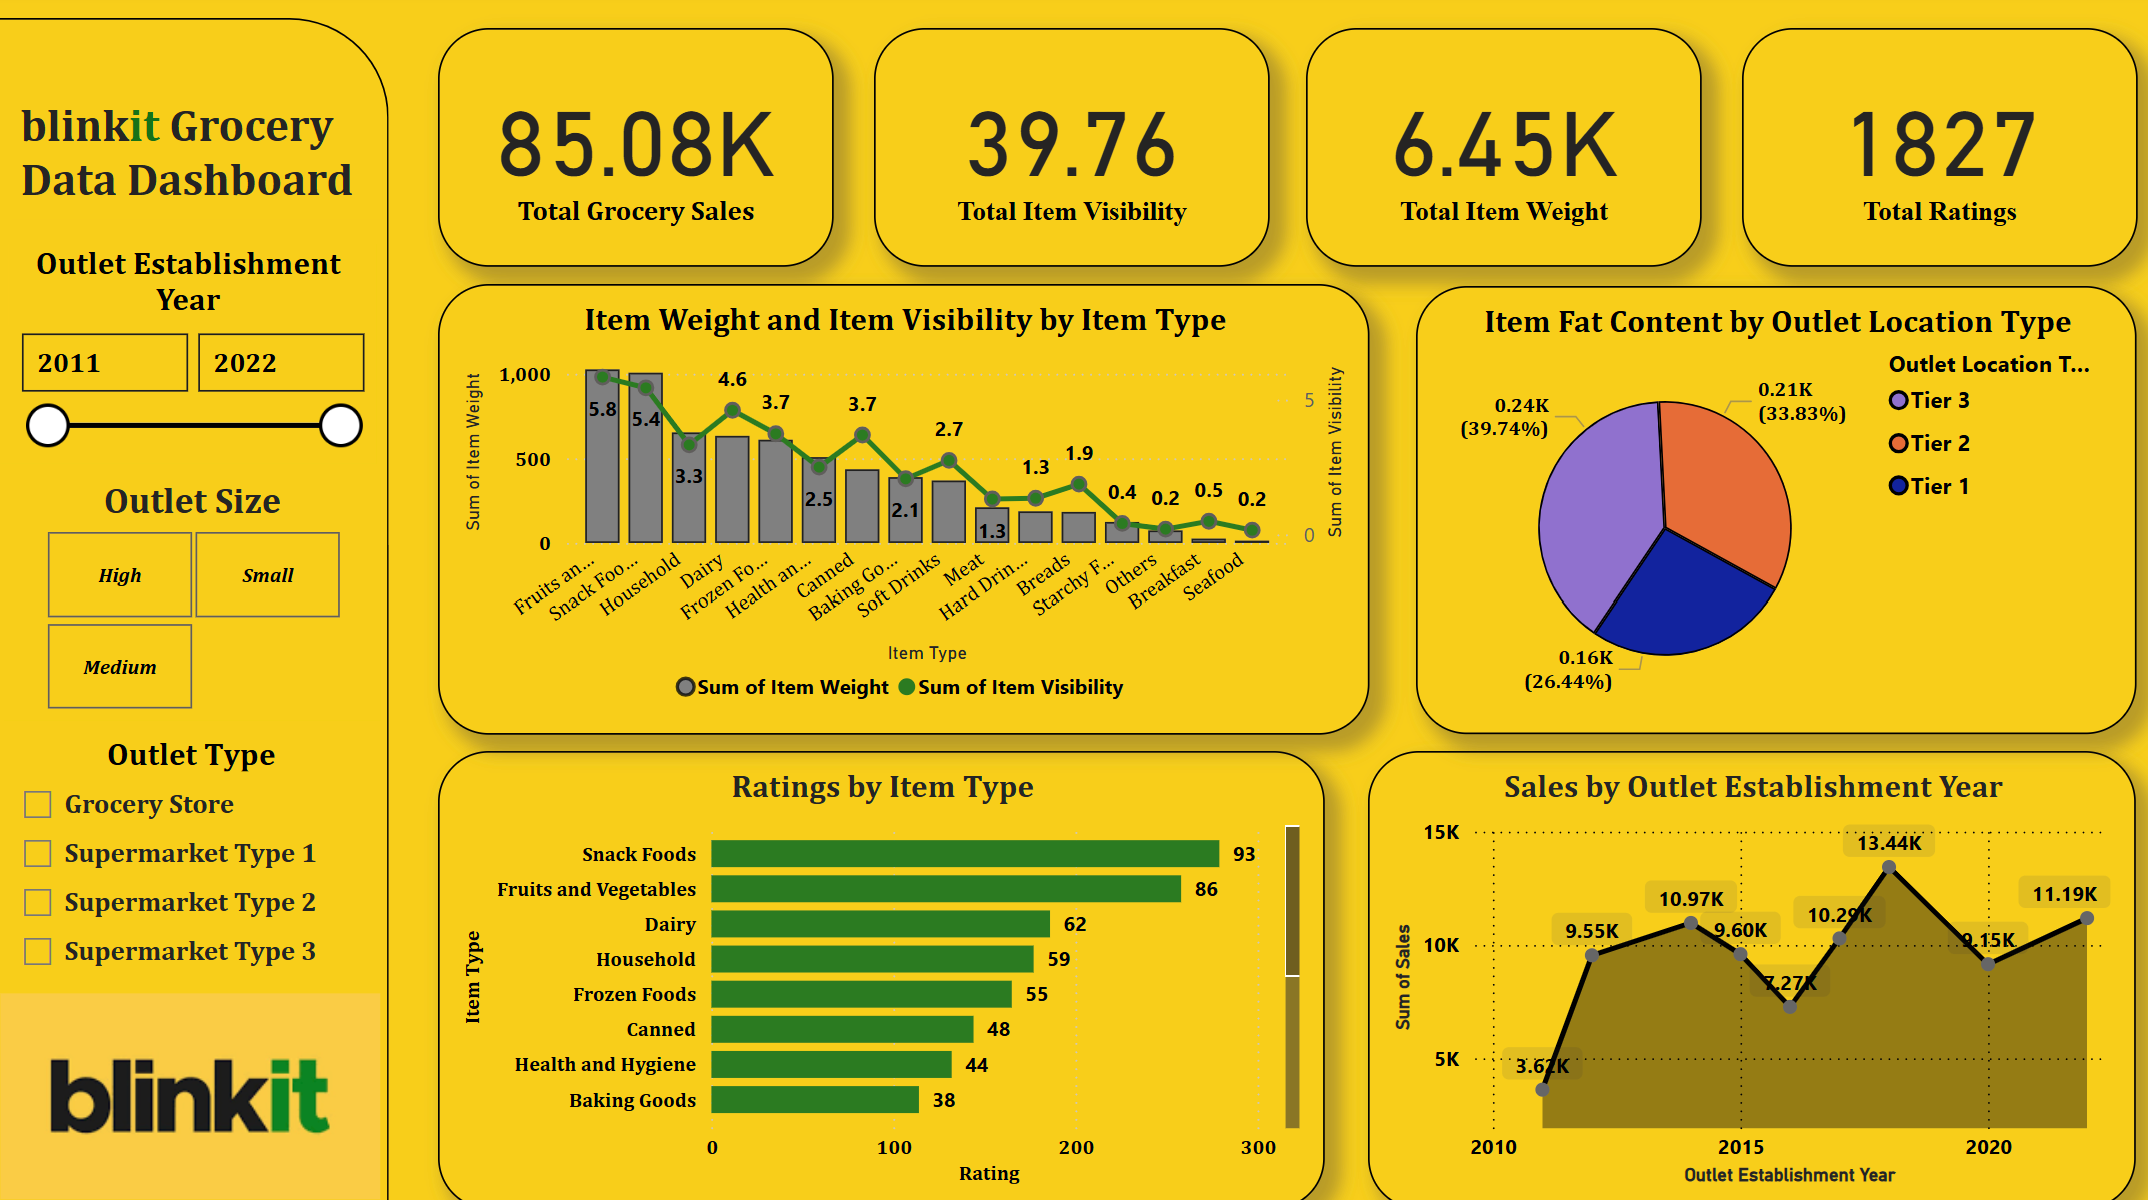

The page's visual inventory and layout, read from the dashboard file:
{"tool":"powerbi","page":{"name":"BlinkIt_1","canvas":[1280,720],"ordinal":0},"visuals":[{"type":"shape","box":[0,15.9,235.1,705.4],"z":0},{"type":"textbox","box":[11.5,58.6,219.3,76.5],"z":1000},{"type":"slicer","title":"Outlet Size","fields":{"Values":["BlinkIT Grocery Data.Outlet Size"]},"box":[7.6,288.1,223.1,142.8],"z":2000},{"type":"image","box":[0,587.8,235.1,132.1],"z":3000},{"type":"slicer","title":"Outlet Establishment Year","fields":{"Values":["BlinkIT Grocery Data.Outlet Establishment Year"]},"box":[5.1,149.2,223.1,130],"z":4000},{"type":"slicer","title":"Outlet Type","fields":{"Values":["BlinkIT Grocery Data.Outlet Type"]},"box":[6.4,439.8,224.4,147.9],"z":5000},{"type":"card","fields":{"Values":["Sum(BlinkIT Grocery Data.Item Visibility)"]},"box":[522.7,21.7,234.6,141.5],"z":6000},{"type":"card","fields":{"Values":["Sum(BlinkIT Grocery Data.Item Weight)"]},"box":[779,21.7,234.6,141.5],"z":7000},{"type":"card","fields":{"Values":["Sum(BlinkIT Grocery Data.Sales)"]},"box":[263.9,21.7,234.6,141.5],"z":8000},{"type":"card","fields":{"Values":["Sum(BlinkIT Grocery Data.Rating)"]},"box":[1036.5,21.7,234.6,141.5],"z":9000},{"type":"stackedAreaChart","title":"Sales by Outlet Establishment Year","fields":{"Y":["Sum(BlinkIT Grocery Data.Sales)"],"Category":["BlinkIT Grocery Data.Outlet Establishment Year"]},"box":[815.9,448.8,455.1,271.6],"z":10000},{"type":"barChart","title":"Ratings by Item Type","fields":{"Y":["Sum(BlinkIT Grocery Data.Rating)"],"Category":["BlinkIT Grocery Data.Item Type"]},"box":[263.9,448.8,525.3,271.6],"z":11000},{"type":"pieChart","title":" Item Fat Content by Outlet Location Type","fields":{"Y":["CountNonNull(BlinkIT Grocery Data.Item Fat Content)"],"Category":["BlinkIT Grocery Data.Outlet Location Type"]},"box":[844,174.7,427.1,265.2],"z":12000},{"type":"lineClusteredColumnComboChart","title":"Item Weight and Item Visibility by Item Type","fields":{"Y":["Sum(BlinkIT Grocery Data.Item Weight)"],"Y2":["Sum(BlinkIT Grocery Data.Item Visibility)"],"Category":["BlinkIT Grocery Data.Item Type"]},"box":[263.9,173.4,552,266.5],"z":13000}]}

Visuals, with their boxes in screenshot pixels (x1, y1, x2, y2), scaled from the page's 1280x720 canvas onto the 2148x1200 screenshot:
shape: 0/26/395/1199
textbox: 19/98/387/225
"Outlet Size" slicer: 13/480/387/718
image: 0/980/395/1199
"Outlet Establishment Year" slicer: 9/249/383/465
"Outlet Type" slicer: 11/733/387/980
card - Sum(BlinkIT Grocery Data.Item Visibility): 877/36/1271/272
card - Sum(BlinkIT Grocery Data.Item Weight): 1307/36/1701/272
card - Sum(BlinkIT Grocery Data.Sales): 443/36/837/272
card - Sum(BlinkIT Grocery Data.Rating): 1739/36/2133/272
"Sales by Outlet Establishment Year" stackedAreaChart: 1369/748/2133/1199
"Ratings by Item Type" barChart: 443/748/1324/1199
" Item Fat Content by Outlet Location Type" pieChart: 1416/291/2133/733
"Item Weight and Item Visibility by Item Type" lineClusteredColumnComboChart: 443/289/1369/733
